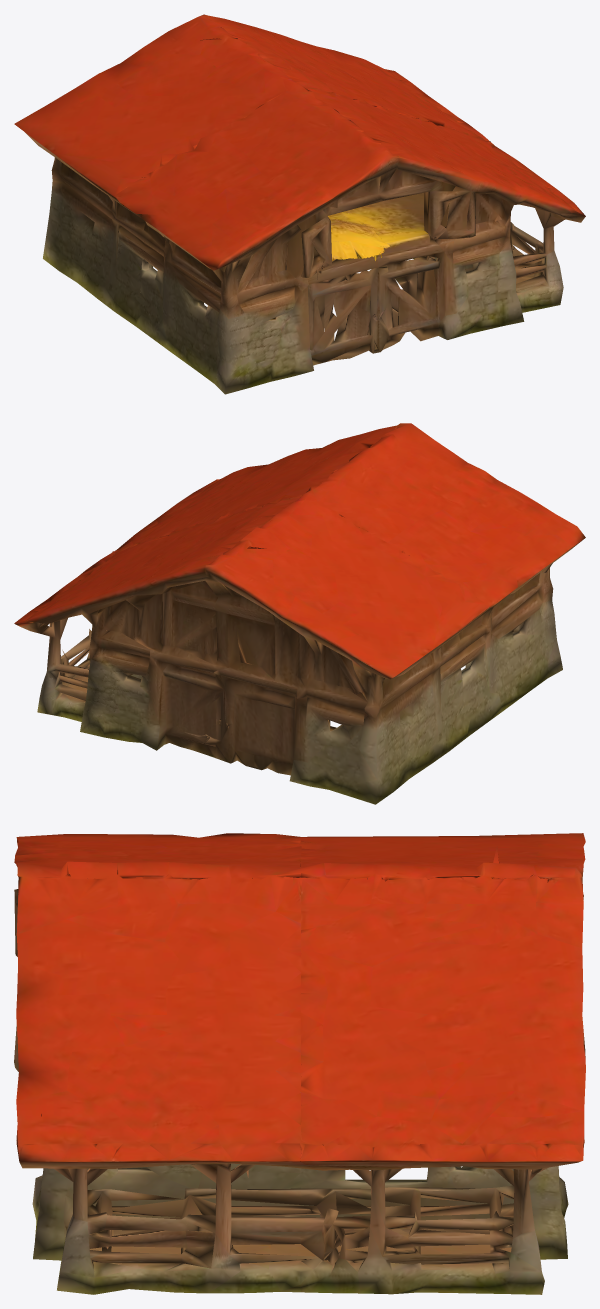
Rendered from ahir.glb.
3 views of the same model, one above another, from view 1: azimuth 30°, elevation 25°; view 2: azimuth 150°, elevation 25°; view 3: azimuth 270°, elevation 25° (orthographic). The views are drawn at different scales.
Visible parts, largest first — view 1: tripo_node_0a2d4aac-fe9e-42fd-bc69-dd12591a2d1e; view 2: tripo_node_0a2d4aac-fe9e-42fd-bc69-dd12591a2d1e; view 3: tripo_node_0a2d4aac-fe9e-42fd-bc69-dd12591a2d1e.
Boxes of the visible parts, box(x1,y1,x2,y2) form: tripo_node_0a2d4aac-fe9e-42fd-bc69-dd12591a2d1e: box(14, 14, 585, 394); tripo_node_0a2d4aac-fe9e-42fd-bc69-dd12591a2d1e: box(14, 423, 585, 804); tripo_node_0a2d4aac-fe9e-42fd-bc69-dd12591a2d1e: box(14, 833, 585, 1294).
Bounding box in the file's own units: 0.9787 × 0.5054 × 0.876.
Materials: 1 (1 with a texture image).
